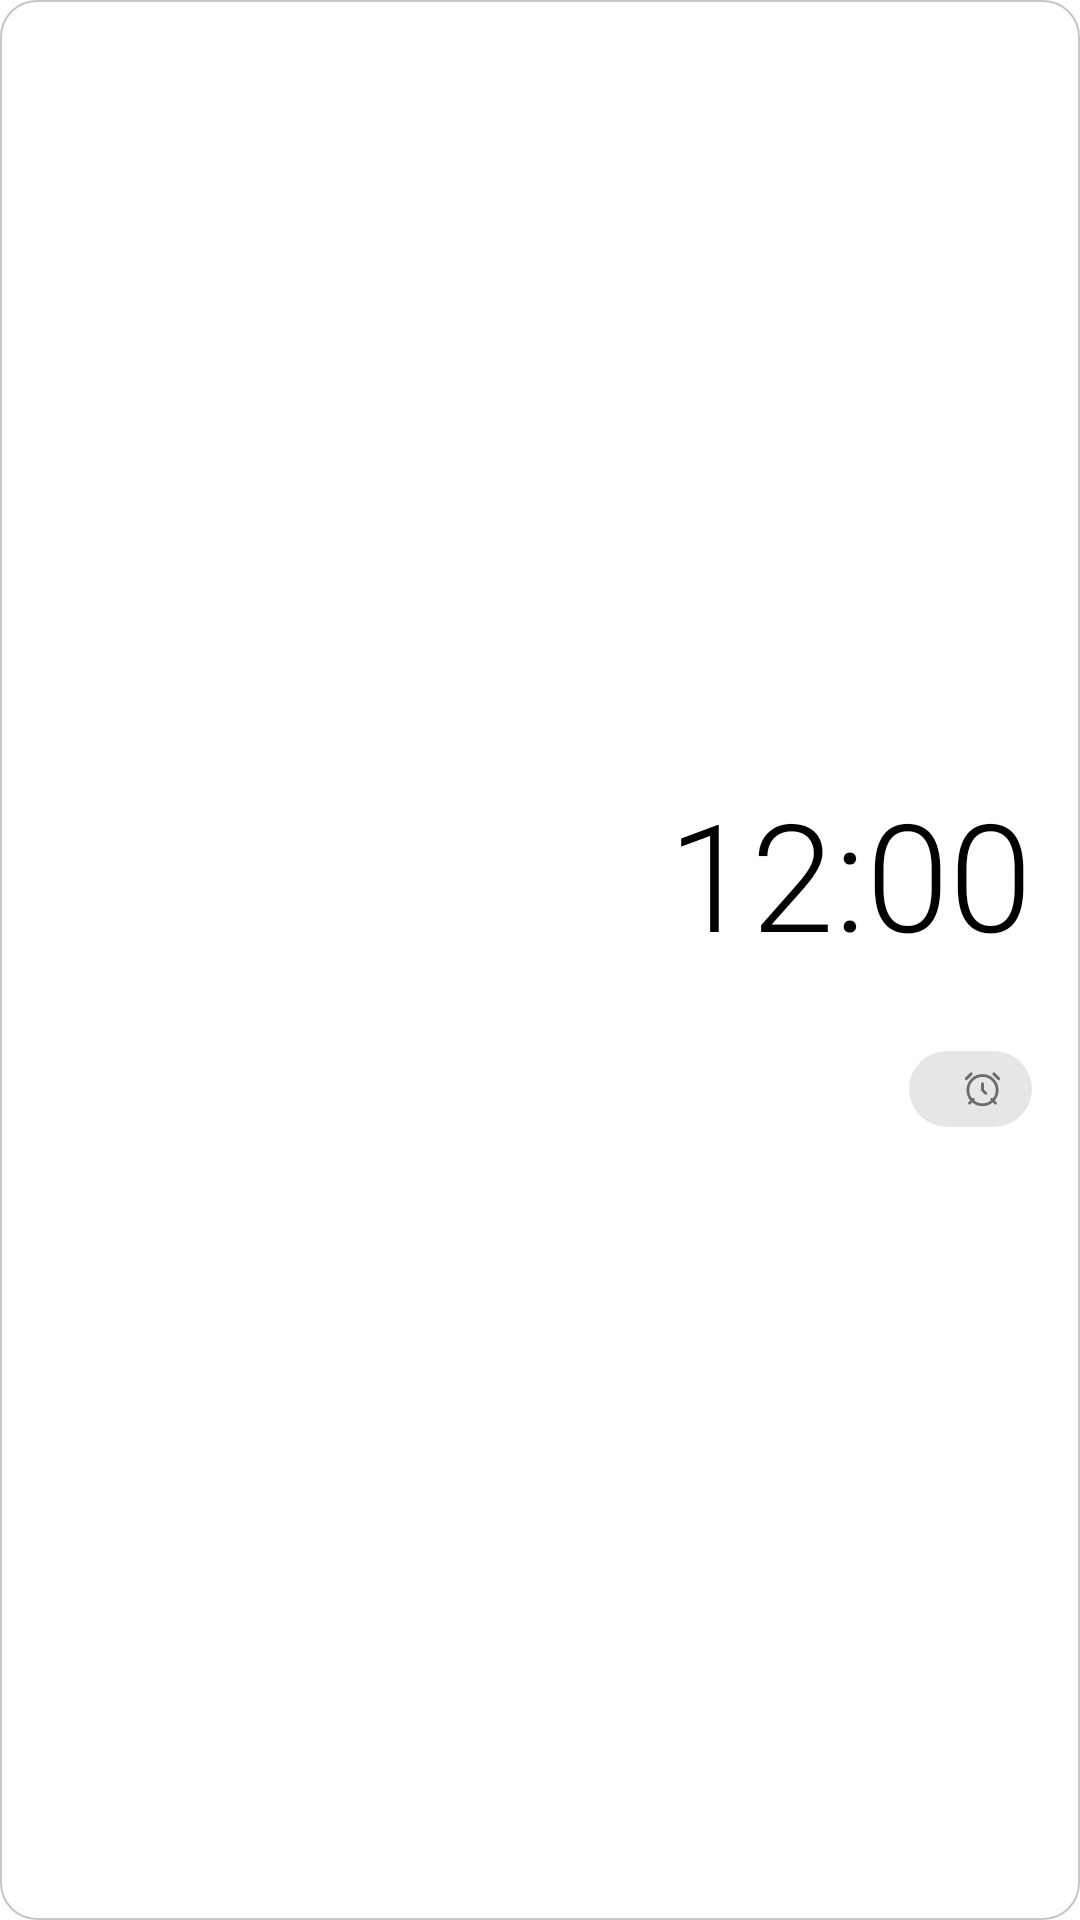

Where icons sit on this 1080px x 1920px app screen, as (x1, y1, x2, y2):
alarm: (965, 1072, 1000, 1107)
